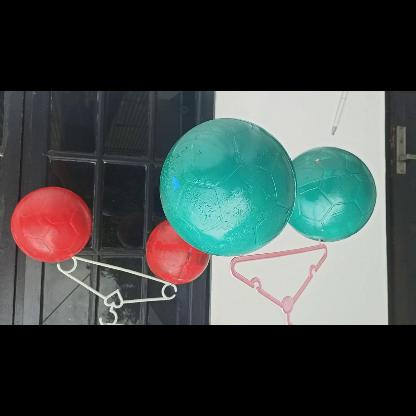red_ball: (12, 186, 90, 264)
